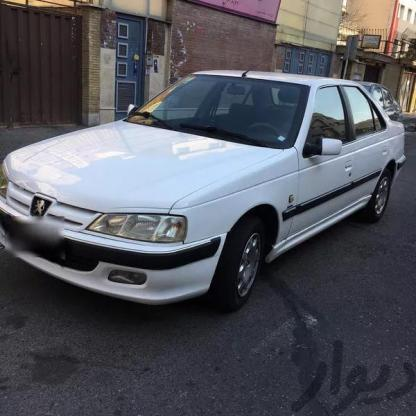Car: (0, 69, 416, 315), (355, 80, 402, 120)
